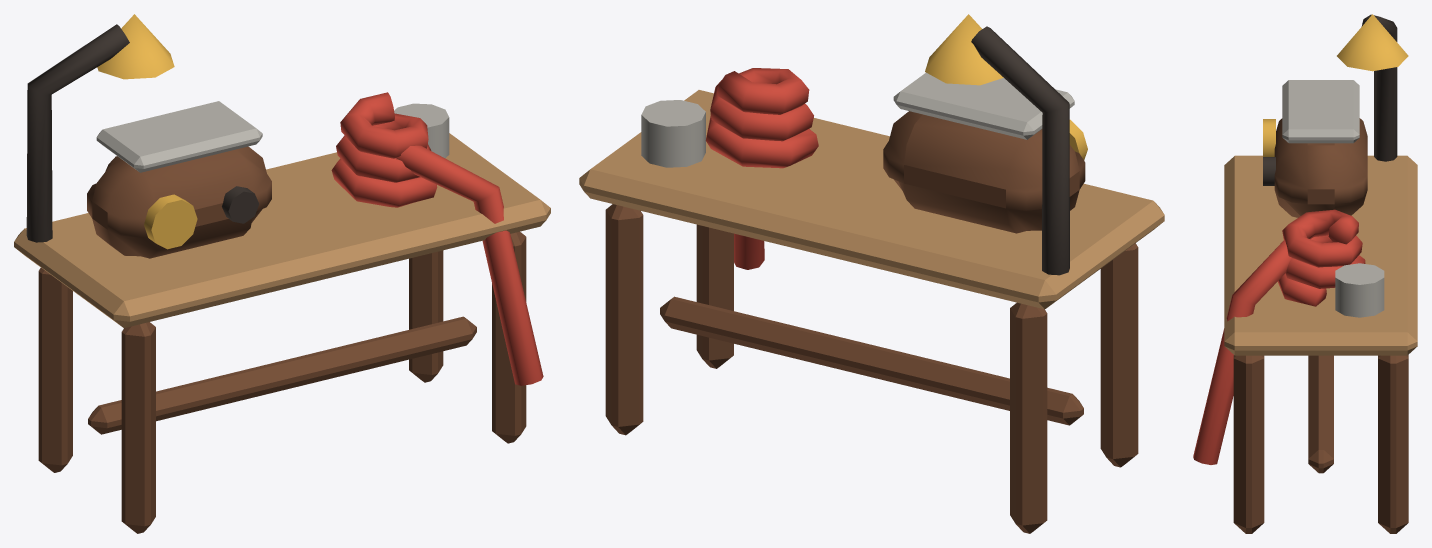
The model's file is tinker_bench.glb.
3 renders of one model, left to right at view 1: azimuth 30°, elevation 25°; view 2: azimuth 150°, elevation 25°; view 3: azimuth 270°, elevation 25°, orthographic. The views are drawn at different scales.
Parts seen in each view (by area): view 1: body; view 2: body; view 3: body.
Part boxes in pixels (<box>): body: <box>14,14,550,533</box>; body: <box>579,14,1164,533</box>; body: <box>1193,14,1417,533</box>.
Bounding box in the file's own units: 1.7 × 1.67 × 0.8715.
